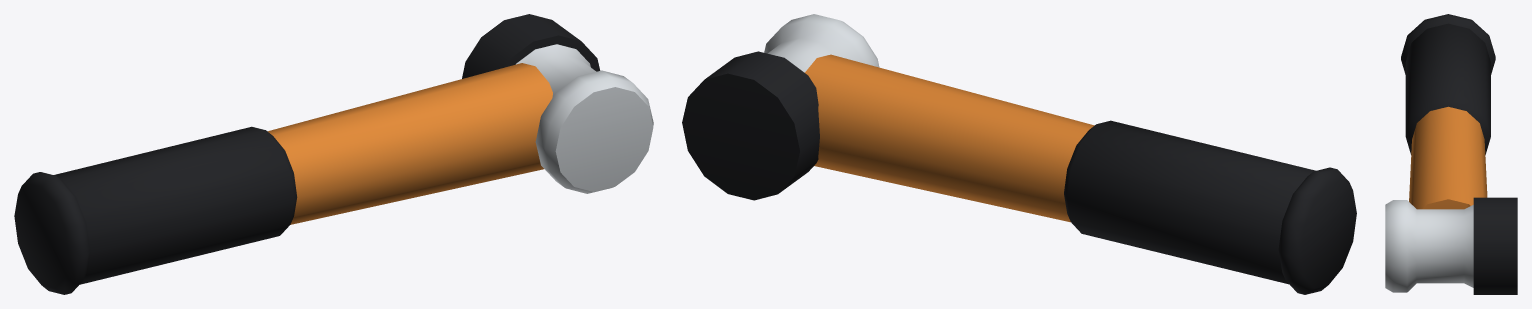
Rendered from SM_Hammer_BallPeen_01.glb.
The picture shows the model from 3 angles, left to right: view 1: azimuth 30°, elevation 25°; view 2: azimuth 150°, elevation 25°; view 3: azimuth 270°, elevation 25°; orthographic projection. The views are drawn at different scales.
Visible parts, largest first — view 1: SM_Hammer_BallPeen_01; view 2: SM_Hammer_BallPeen_01; view 3: SM_Hammer_BallPeen_01.
Part boxes in pixels (<box>): SM_Hammer_BallPeen_01: <box>14,14,653,294</box>; SM_Hammer_BallPeen_01: <box>682,14,1356,294</box>; SM_Hammer_BallPeen_01: <box>1385,14,1517,294</box>.
Size of the model in its own units: 0.3195 by 0.0614 by 0.084.
Materials: 1 (1 with a texture image).
